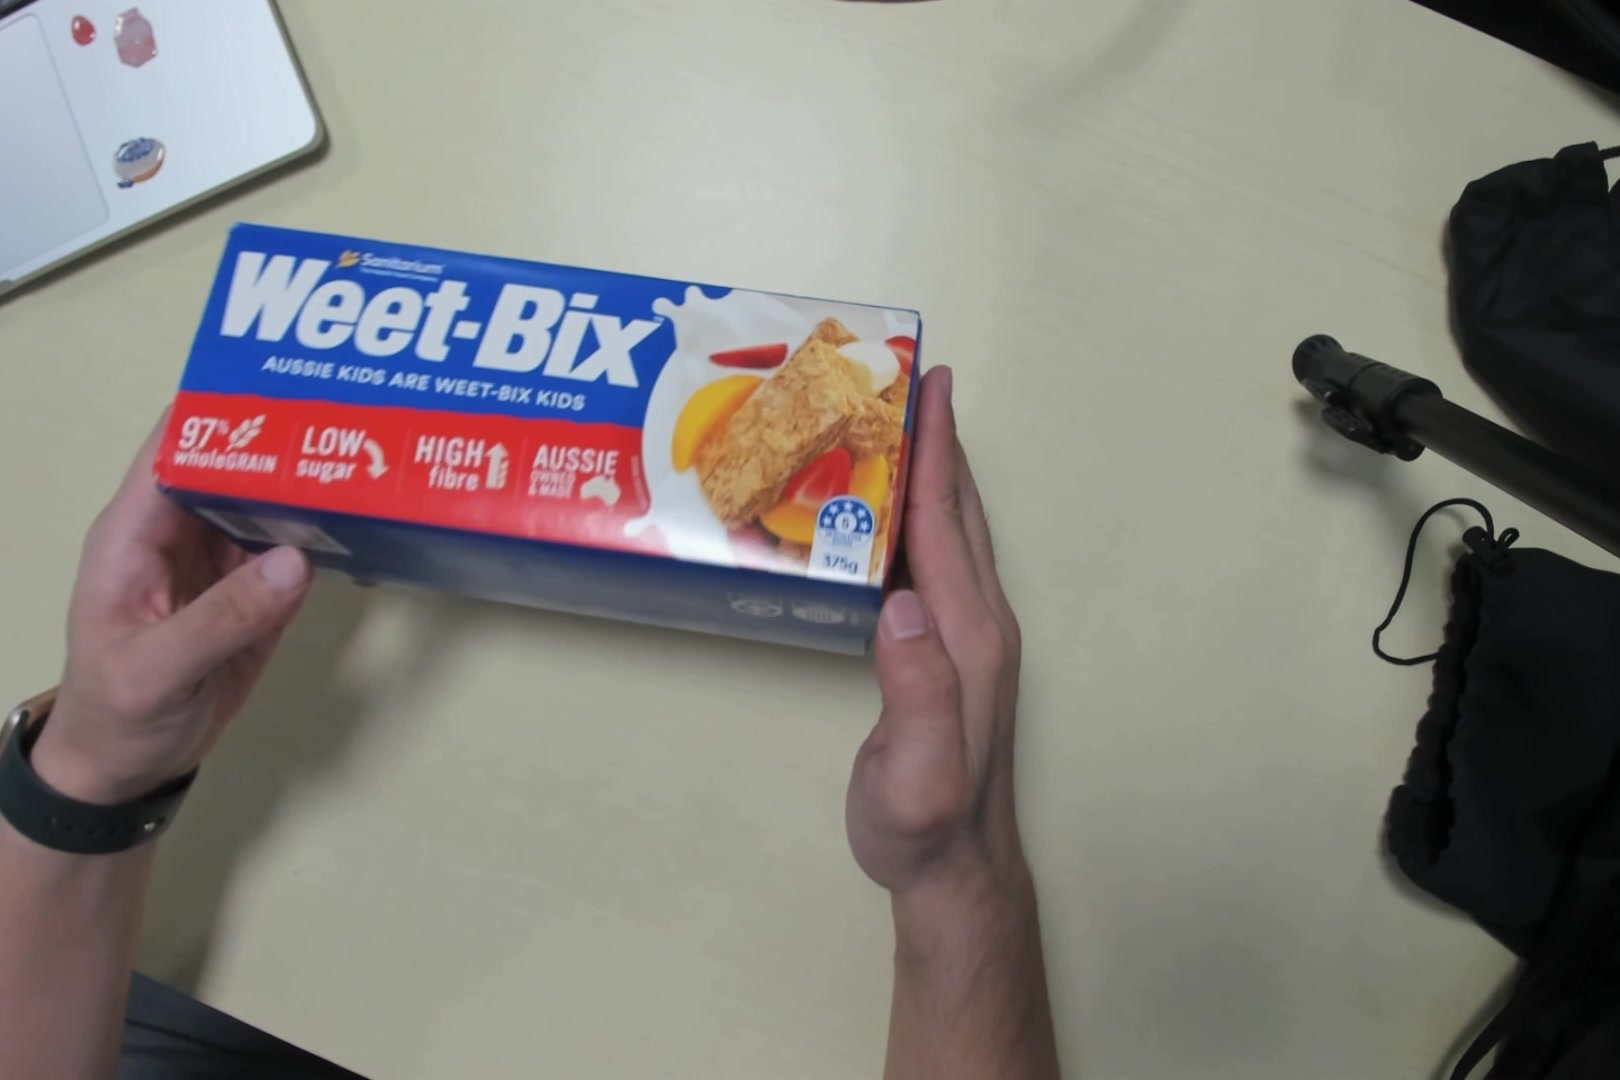BreakfastCereals_300-399g_NonHalal_NonHealthy: (170, 224, 916, 658)
